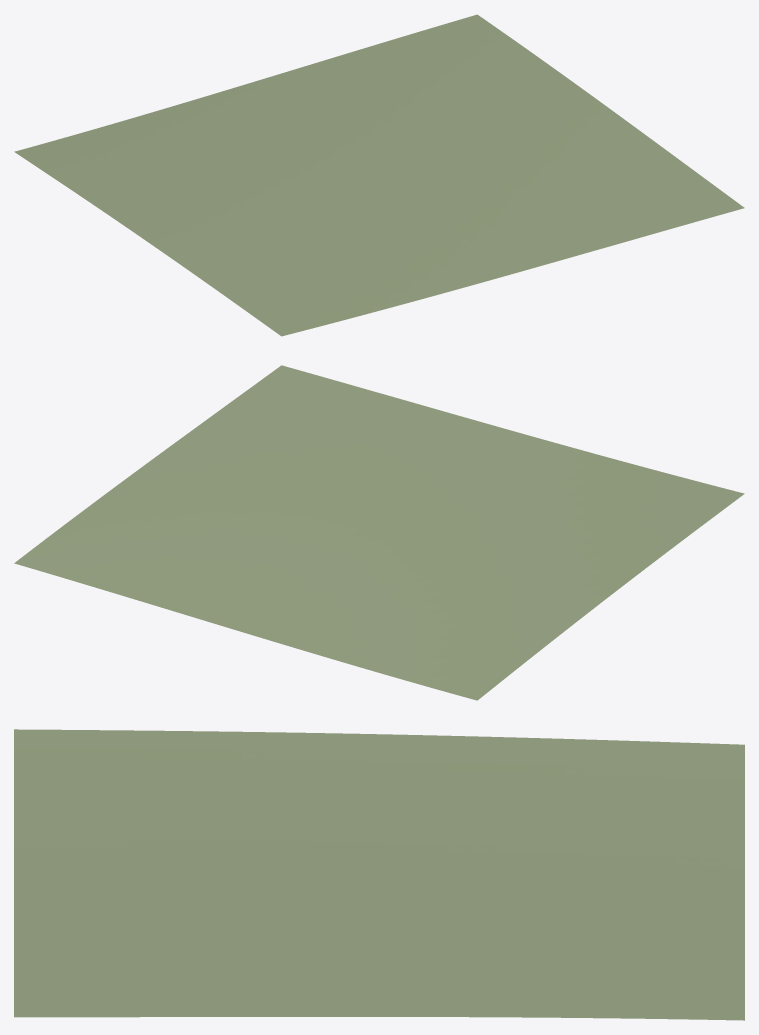
File: expanse-9-28.glb
3 views of the same model, one above another, from view 1: azimuth 30°, elevation 25°; view 2: azimuth 150°, elevation 25°; view 3: azimuth 270°, elevation 25° (orthographic). The views are drawn at different scales.
Visible parts, largest first — view 1: expanse-9-28; view 2: expanse-9-28; view 3: expanse-9-28.
Boxes of the visible parts, bbox=[...] form: expanse-9-28: bbox=[14, 14, 744, 336]; expanse-9-28: bbox=[14, 365, 744, 700]; expanse-9-28: bbox=[14, 729, 744, 1020].
Bounding box in the file's own units: 256 × 14.22 × 256.
